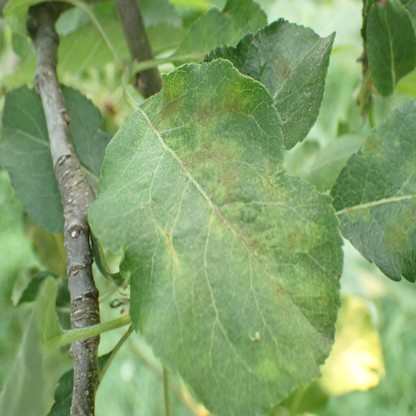scab: (147, 72, 332, 384), (385, 203, 416, 254), (270, 50, 291, 85), (345, 206, 371, 224), (363, 134, 380, 159)
